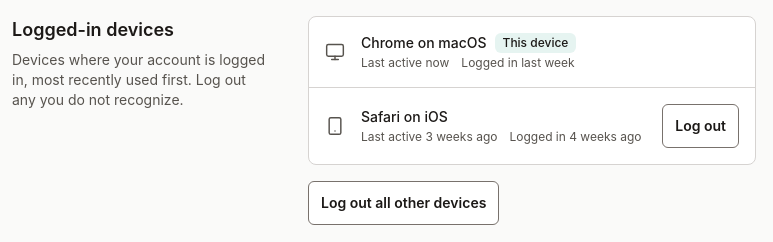
Devices › offers no log-out button on this device's row, and logs out all the others
Expected: the text "Chrome on macOS" is shown, [361,33,486,53]
Click the button "Log out all other devices" at (404, 203), box [308,181,499,225]
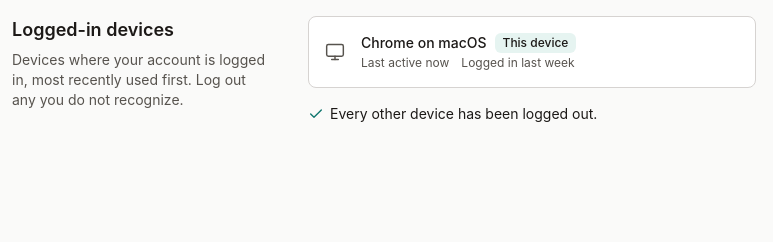
Expected: the text "Every other device has been logged out." is shown, [308,105,597,122]
Expected: the button "Log out all other devices" is gone
